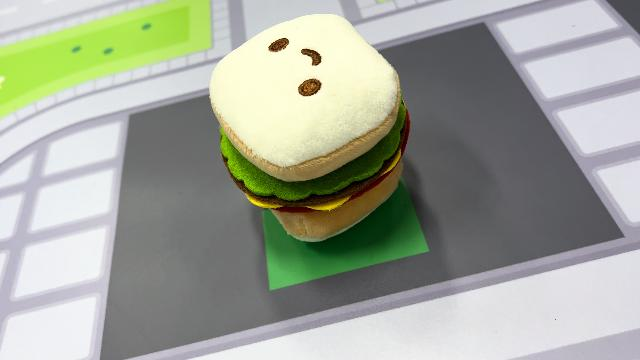sandwich: (206, 12, 414, 244)
